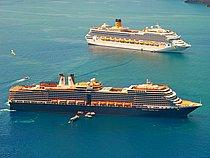Ship: (6, 73, 207, 122), (85, 18, 195, 58)
